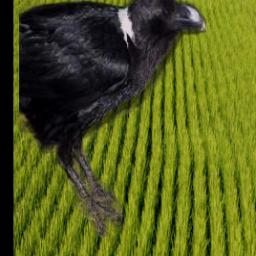Crow: (19, 0, 206, 239)
